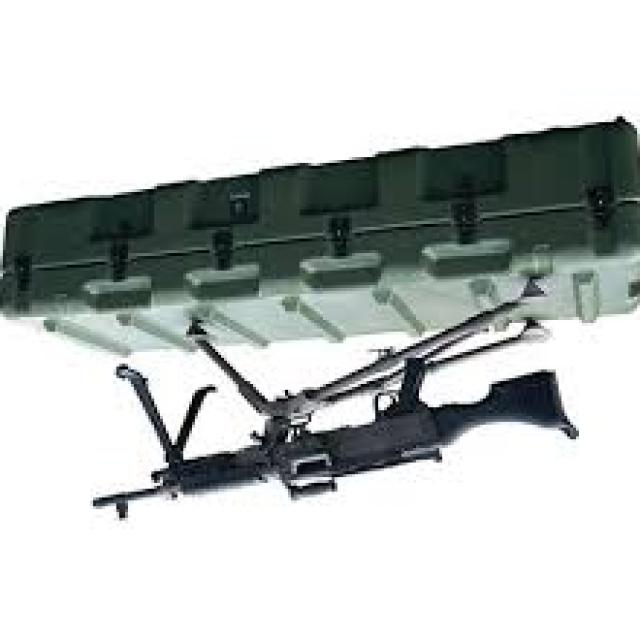Gun: (65, 288, 576, 538)
